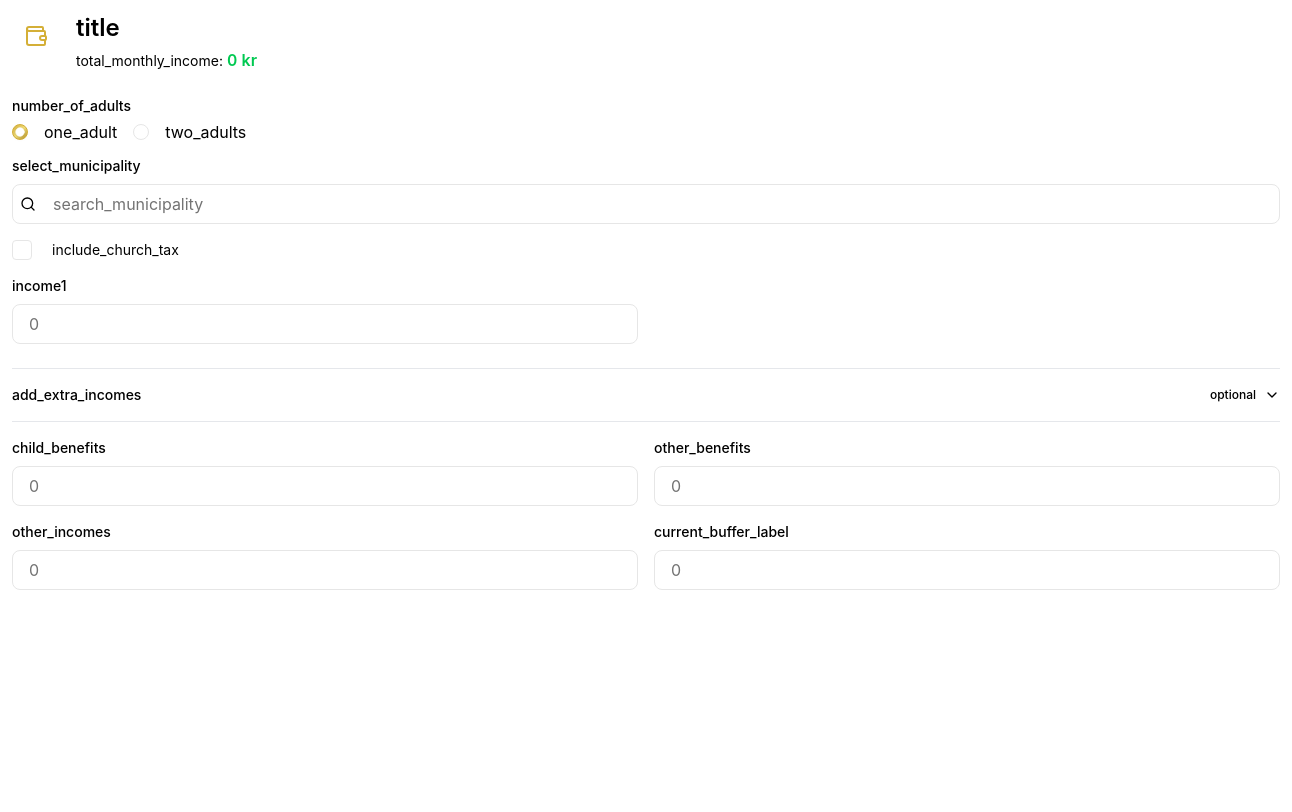
it: Income › toggles extra incomes section
Click the button with test id "extra-incomes-toggle": [77, 394] box top-left (12, 369), bottom-right (1280, 421)
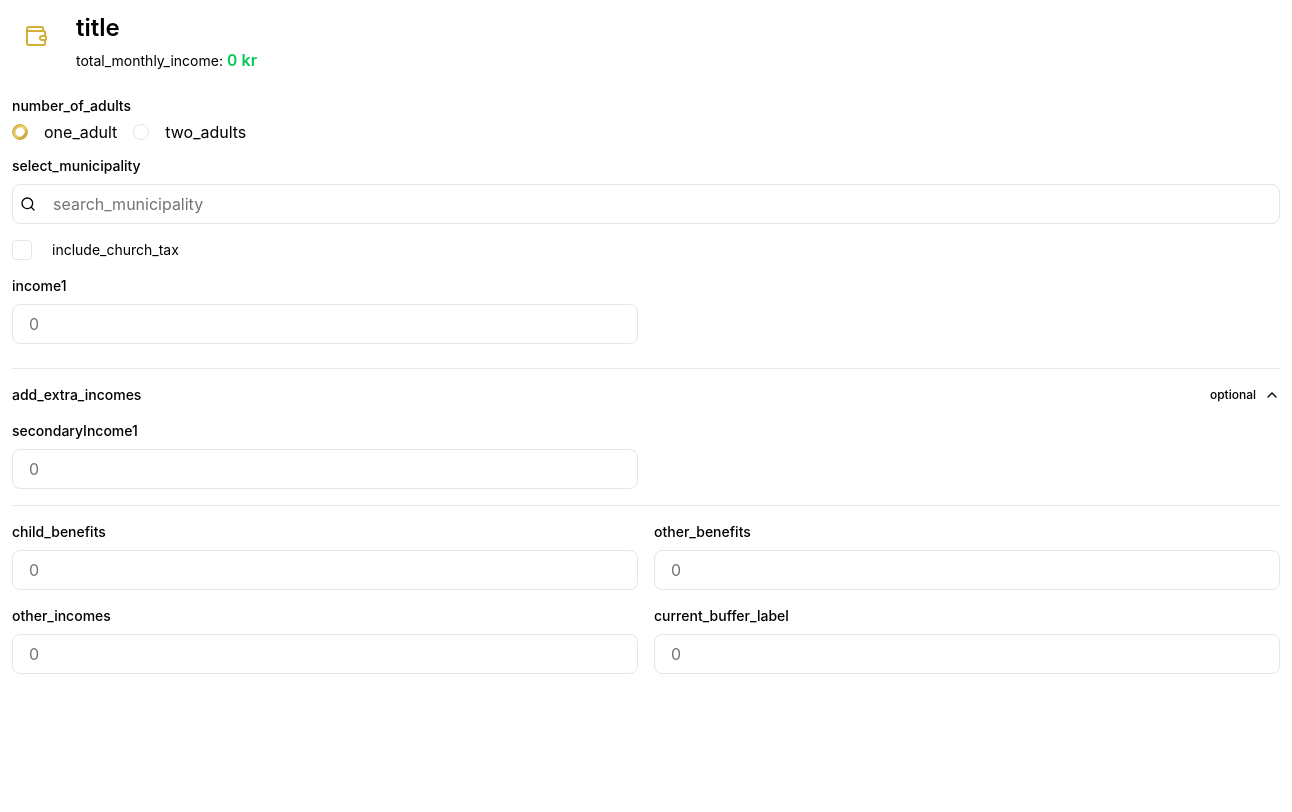
expect the button with test id "extra-incomes-toggle" is expanded: met
Click the button with test id "extra-incomes-toggle": [77, 394] box top-left (12, 369), bottom-right (1280, 421)
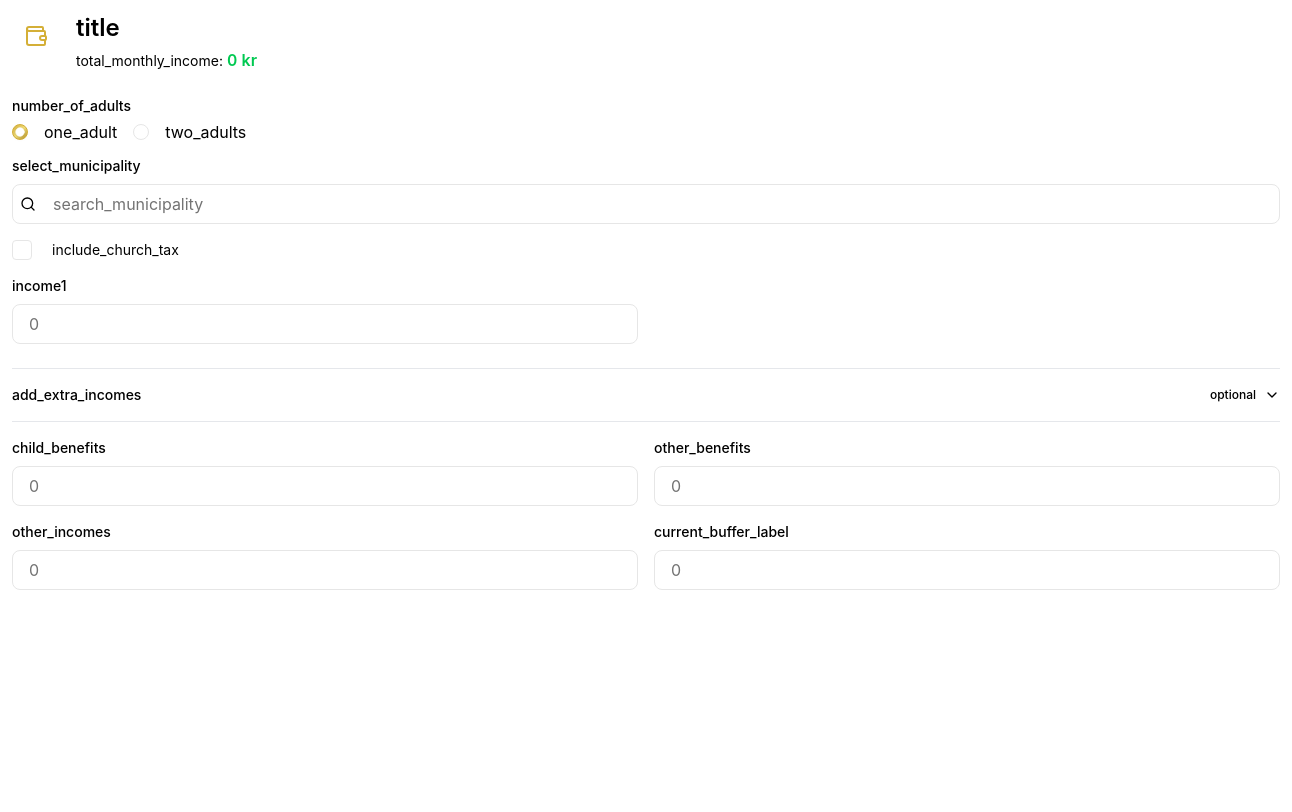
expect the button with test id "extra-incomes-toggle" is collapsed: met, box top-left (12, 369), bottom-right (1280, 421)
